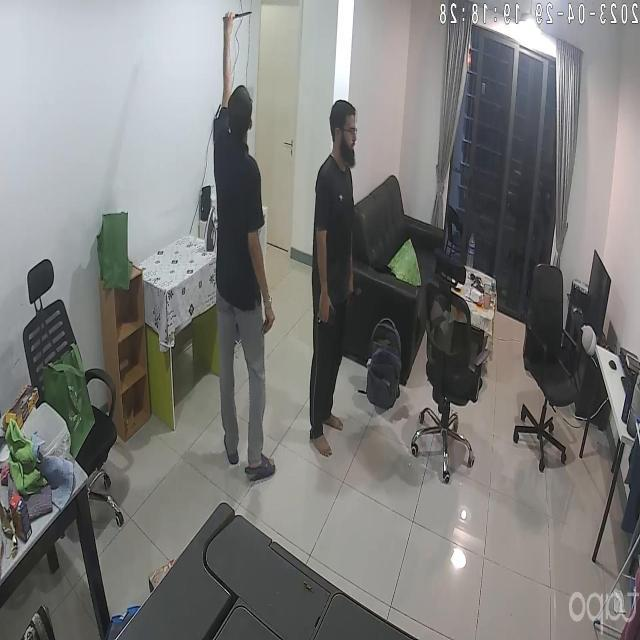Knife: (222, 5, 268, 32)
